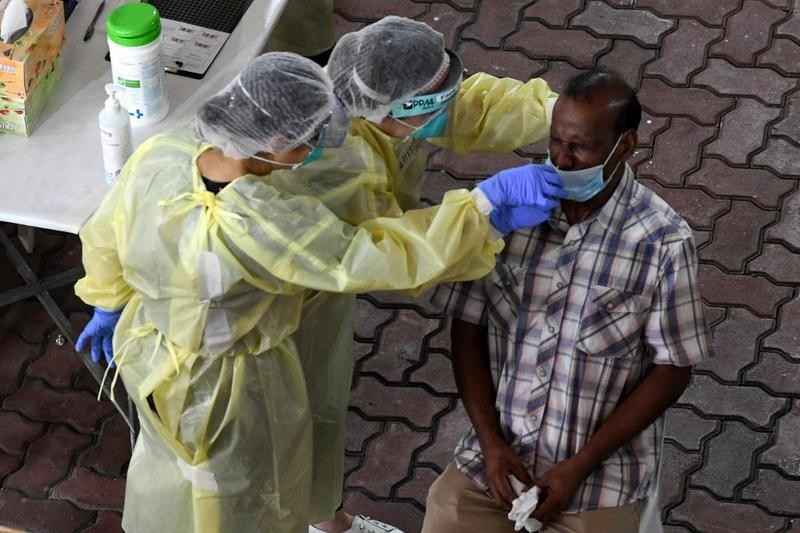Coverall: (80, 134, 310, 533), (275, 123, 405, 518)
Face_Shield: (386, 21, 476, 157)
Gloves: (474, 156, 570, 206), (73, 301, 132, 371), (488, 197, 560, 237)
mask_weared_incorrect: (545, 131, 605, 200)
with_mask: (285, 121, 326, 178), (408, 104, 445, 148)
